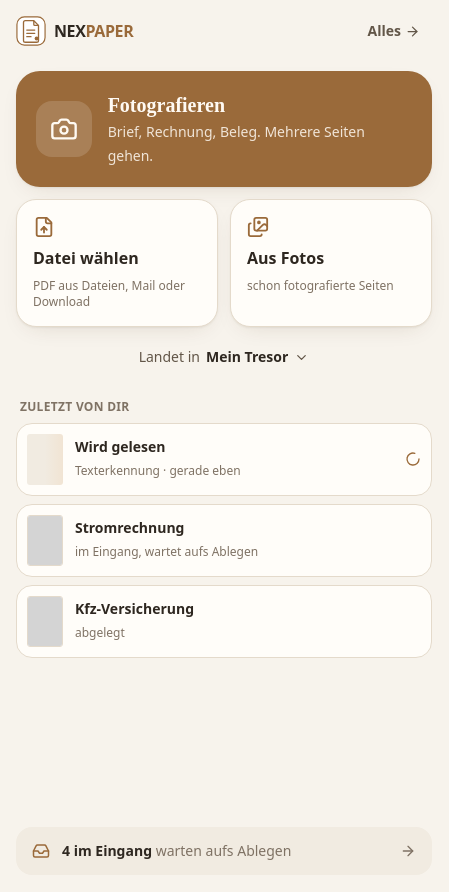
the quick upload › chooses the vault among those one may add to, and keeps it with the account
Click the button "Landet in Mein Tresor".
click(224, 357)  # box [16, 339, 432, 375]
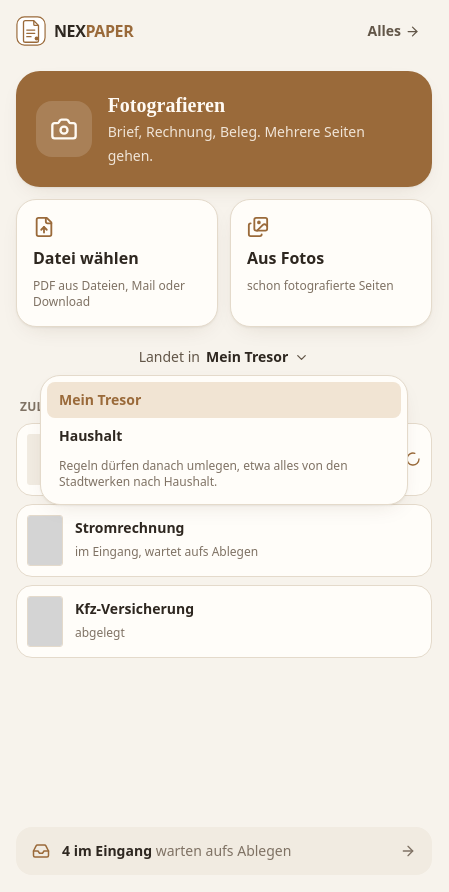
Expected: the text "Regeln dürfen danach umlegen" is shown, [59, 457, 348, 490]
Expected: the menu item "Haushalt" is shown
Click the menu item "Haushalt".
click(91, 436)  # box [47, 418, 401, 454]
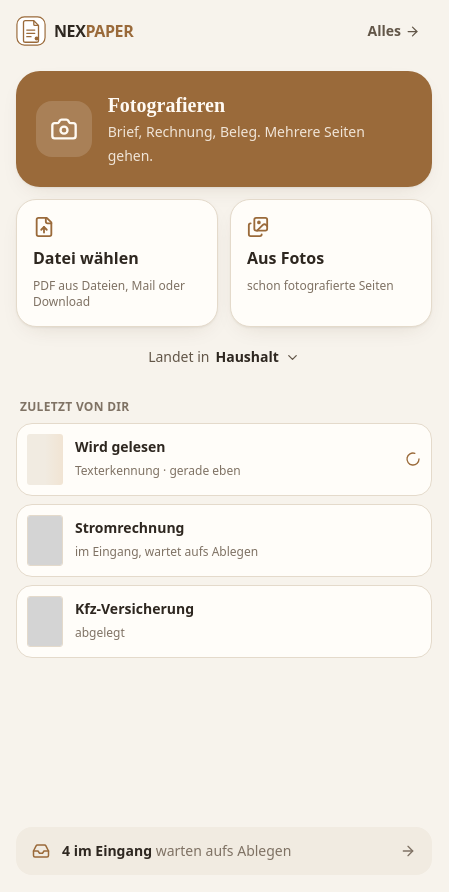
Expected: the text "Landet in Haushalt" is shown, [16, 339, 432, 375]
